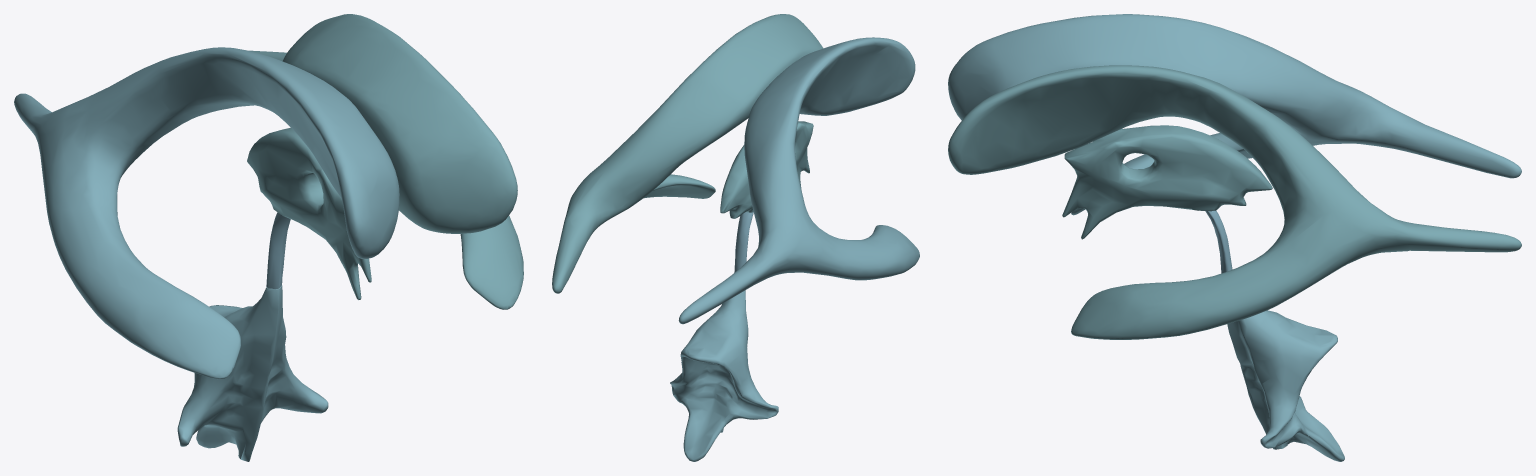
The model's file is brain-ventricles.glb.
3 renders of one model, left to right at view 1: azimuth 30°, elevation 25°; view 2: azimuth 150°, elevation 25°; view 3: azimuth 270°, elevation 25°, orthographic. The views are drawn at different scales.
Visible parts, largest first — view 1: FJ1814 Right lateral ventricle, FJ1767 Left lateral ventricle, FJ1731 Fourth ventricle, FJ1730 Third ventricle, FJ1738 Cerebral aqueduct; view 2: FJ1814 Right lateral ventricle, FJ1767 Left lateral ventricle, FJ1731 Fourth ventricle, FJ1730 Third ventricle, FJ1738 Cerebral aqueduct; view 3: FJ1767 Left lateral ventricle, FJ1814 Right lateral ventricle, FJ1730 Third ventricle, FJ1731 Fourth ventricle, FJ1738 Cerebral aqueduct.
Boxes of the visible parts, x1,y1,x2,y2 form: FJ1814 Right lateral ventricle: (14, 47, 399, 378); FJ1767 Left lateral ventricle: (249, 14, 523, 309); FJ1731 Fourth ventricle: (177, 285, 328, 461); FJ1730 Third ventricle: (247, 127, 371, 300); FJ1738 Cerebral aqueduct: (266, 212, 290, 288); FJ1814 Right lateral ventricle: (678, 37, 919, 324); FJ1767 Left lateral ventricle: (552, 14, 823, 293); FJ1731 Fourth ventricle: (670, 290, 778, 461); FJ1730 Third ventricle: (720, 121, 813, 218); FJ1738 Cerebral aqueduct: (734, 212, 753, 272); FJ1767 Left lateral ventricle: (948, 65, 1521, 339); FJ1814 Right lateral ventricle: (948, 14, 1521, 215); FJ1730 Third ventricle: (1062, 125, 1272, 239); FJ1731 Fourth ventricle: (1227, 310, 1344, 461); FJ1738 Cerebral aqueduct: (1205, 210, 1232, 273).
Bounding box in the file's own units: 0.0775 × 0.0882 × 0.1093.
